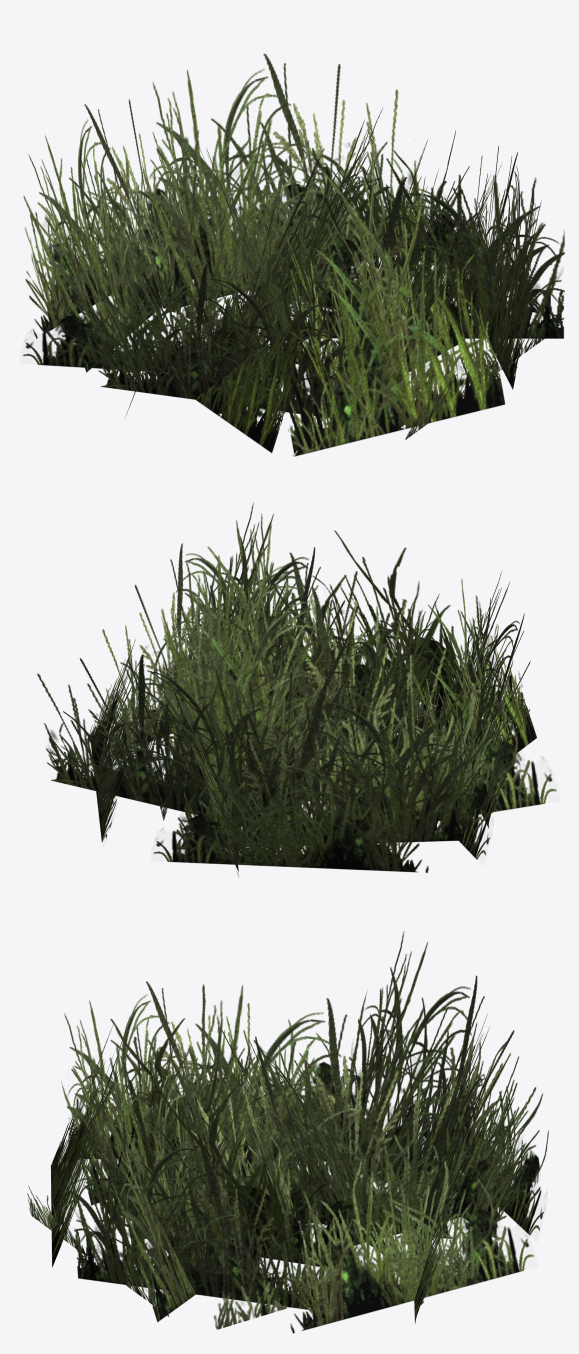
The model's file is grass_large.glb.
The picture shows the model from 3 angles, top to bottom: view 1: azimuth 30°, elevation 25°; view 2: azimuth 150°, elevation 25°; view 3: azimuth 270°, elevation 25°; orthographic projection. The views are drawn at different scales.
Visible parts, largest first — view 1: grass3.002; view 2: grass3.002; view 3: grass3.002.
Boxes of the visible parts, x1,y1,x2,y2 form: grass3.002: (23, 53, 564, 456); grass3.002: (37, 503, 556, 877); grass3.002: (27, 931, 548, 1333).
Size of the model in its own units: 3.16 by 1.29 by 3.21.
1 material, 1 textured.
